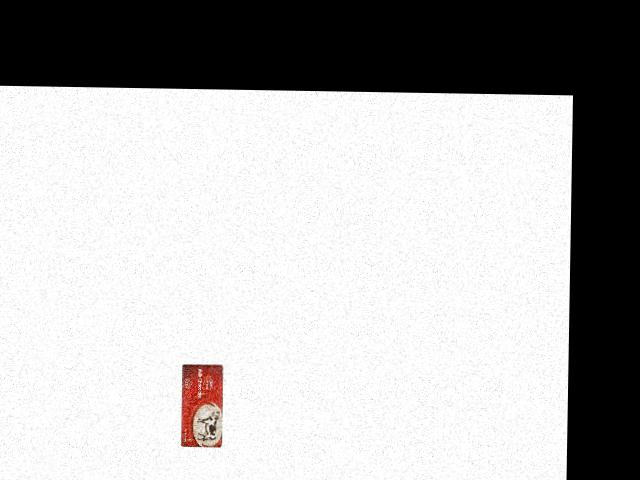chocolate: (178, 362, 223, 447)
